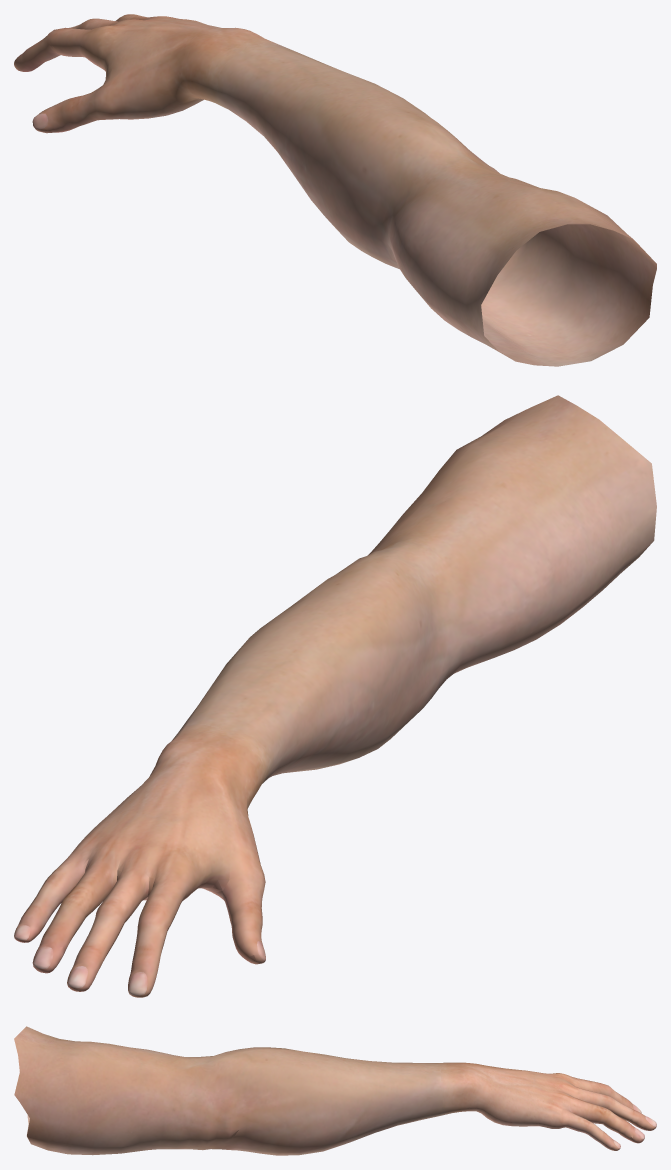
The model's file is arm1.dae.
The picture shows the model from 3 angles, top to bottom: view 1: azimuth 30°, elevation 25°; view 2: azimuth 150°, elevation 25°; view 3: azimuth 270°, elevation 25°; orthographic projection. The views are drawn at different scales.
Visible parts, largest first — view 1: Arms; view 2: Arms; view 3: Arms.
Boxes of the visible parts, box(x1,y1,x2,y2) form: Arms: box(14, 14, 656, 366); Arms: box(14, 395, 656, 997); Arms: box(14, 1026, 656, 1155).
Bounding box in the file's own units: 15.92 × 12.01 × 60.81.
Materials: 1 (1 with a texture image).
